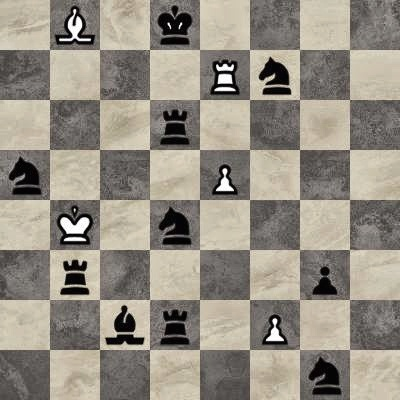black-bishop: (100, 300, 150, 350)
black-king: (150, 0, 200, 50)
black-knight: (250, 50, 300, 100), (0, 150, 50, 200), (150, 200, 200, 250), (300, 350, 350, 400)
black-pawn: (300, 250, 350, 300)
black-rook: (150, 100, 200, 150), (50, 250, 100, 300), (150, 300, 200, 350)
white-bishop: (50, 0, 100, 50)
white-king: (50, 200, 100, 250)
white-pawn: (200, 150, 250, 200), (250, 300, 300, 350)
white-rook: (200, 50, 250, 100)
